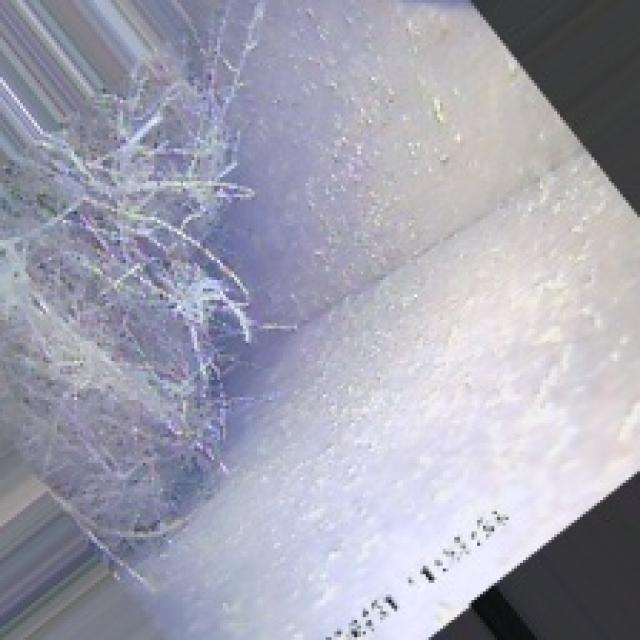Root_blockage: (26, 134, 251, 523)
